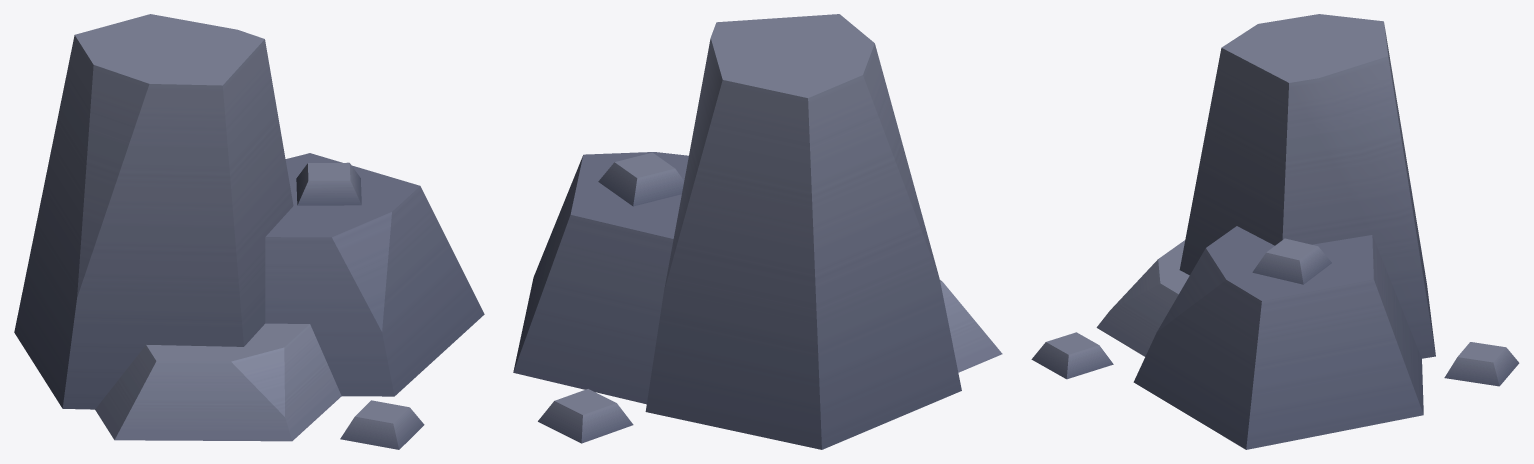
File: pedra 1 cinza.glb
3 views of the same model, side by side, from view 1: azimuth 30°, elevation 25°; view 2: azimuth 150°, elevation 25°; view 3: azimuth 270°, elevation 25° (orthographic). The views are drawn at different scales.
Parts seen in each view (by area): view 1: rock-a; view 2: rock-a; view 3: rock-a.
Boxes of the visible parts, x1,y1,x2,y2 form: rock-a: [14, 14, 484, 449]; rock-a: [513, 14, 1002, 449]; rock-a: [1031, 14, 1519, 449].
Size of the model in its own units: 0.5552 by 0.3927 by 0.6216.
1 material, 1 textured.
